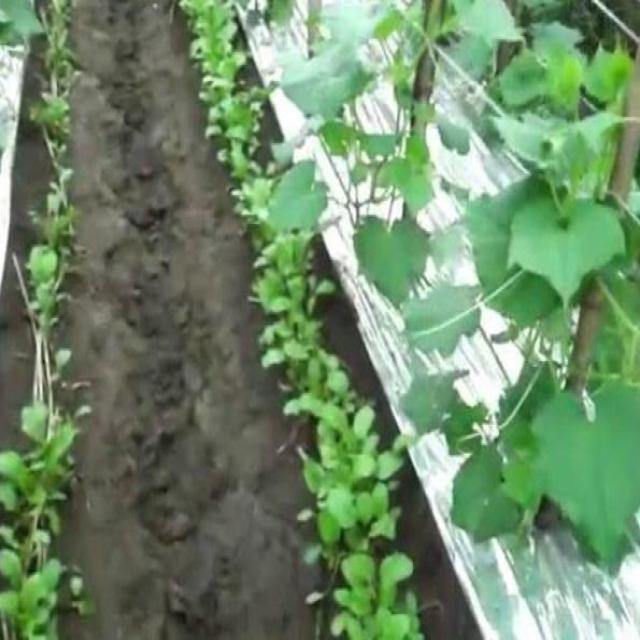row: (75, 0, 339, 640)
